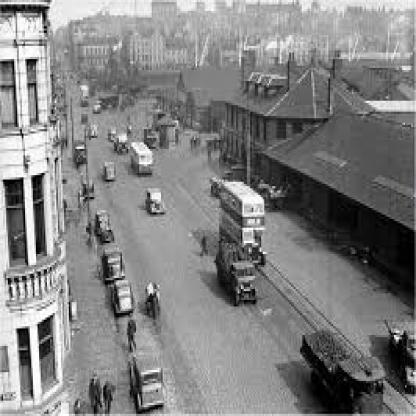car: (303, 313, 394, 416), (208, 153, 272, 265), (125, 336, 175, 415), (214, 235, 260, 314), (105, 273, 139, 323), (100, 247, 135, 285), (125, 140, 155, 184), (141, 186, 172, 221), (101, 155, 122, 198), (93, 210, 116, 244)
